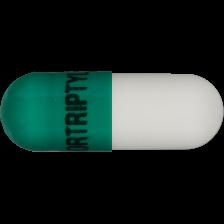50436-6652: (0, 0, 224, 224)
